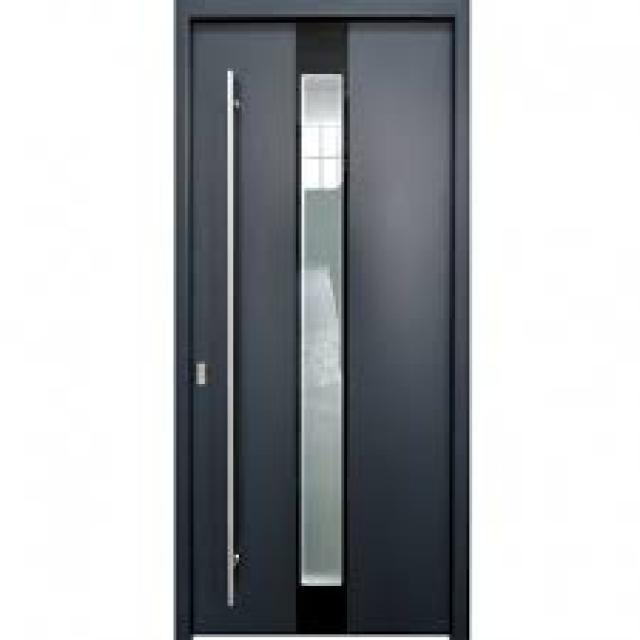door: (175, 0, 468, 640)
